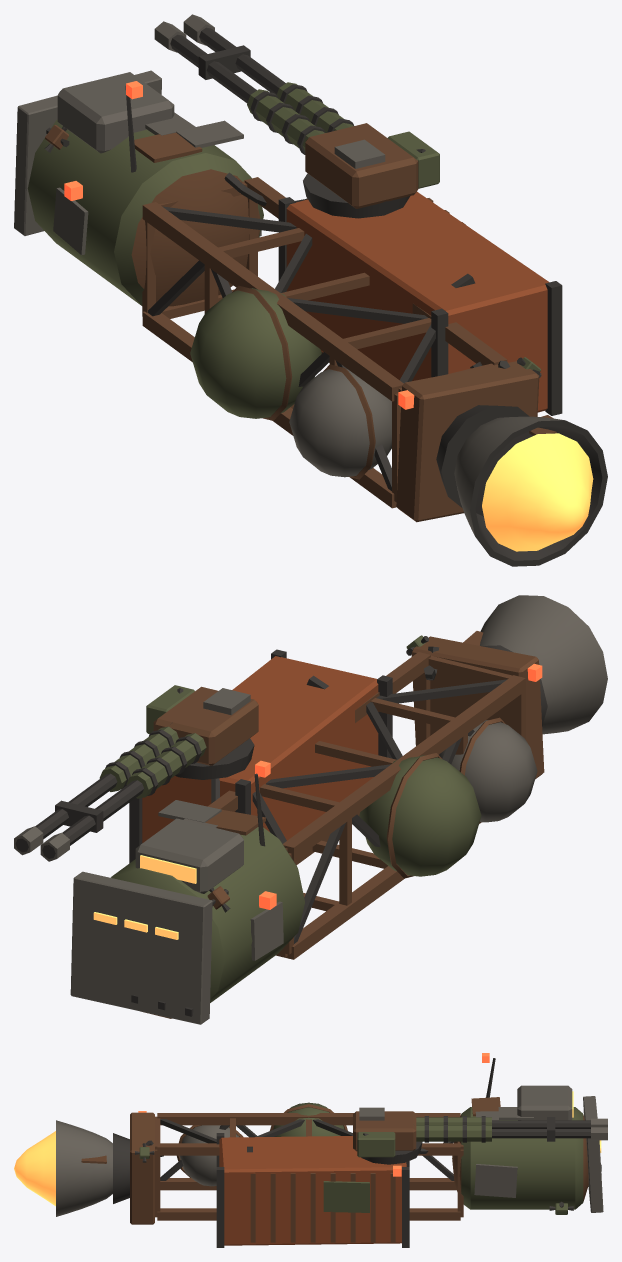
File: scavenger.glb
3 views of the same model, one above another, from view 1: azimuth 30°, elevation 25°; view 2: azimuth 150°, elevation 25°; view 3: azimuth 270°, elevation 25° (orthographic). The views are drawn at different scales.
Visible parts, largest first — view 1: scav_hull, scav_rig, engine_glow; view 2: scav_hull, scav_rig; view 3: scav_hull, scav_rig, engine_glow.
Boxes of the visible parts, left/top/right/bottom form: scav_hull: left=14, top=70, right=607, bottom=566; scav_rig: left=154, top=14, right=439, bottom=218; engine_glow: left=482, top=433, right=593, bottom=551; scav_hull: left=70, top=595, right=607, bottom=1024; scav_rig: left=14, top=685, right=258, bottom=861; scav_hull: left=56, top=1053, right=603, bottom=1247; scav_rig: left=353, top=1107, right=607, bottom=1164; engine_glow: left=14, top=1131, right=55, bottom=1206.
Size of the model in its own units: 4.84 by 3.74 by 14.1.
